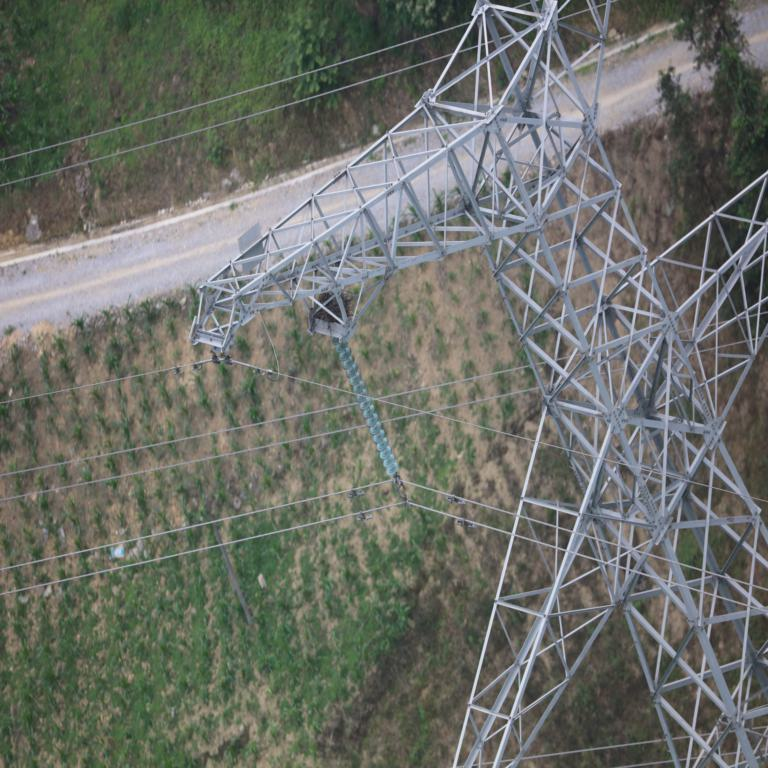nest: (312, 295, 357, 326)
